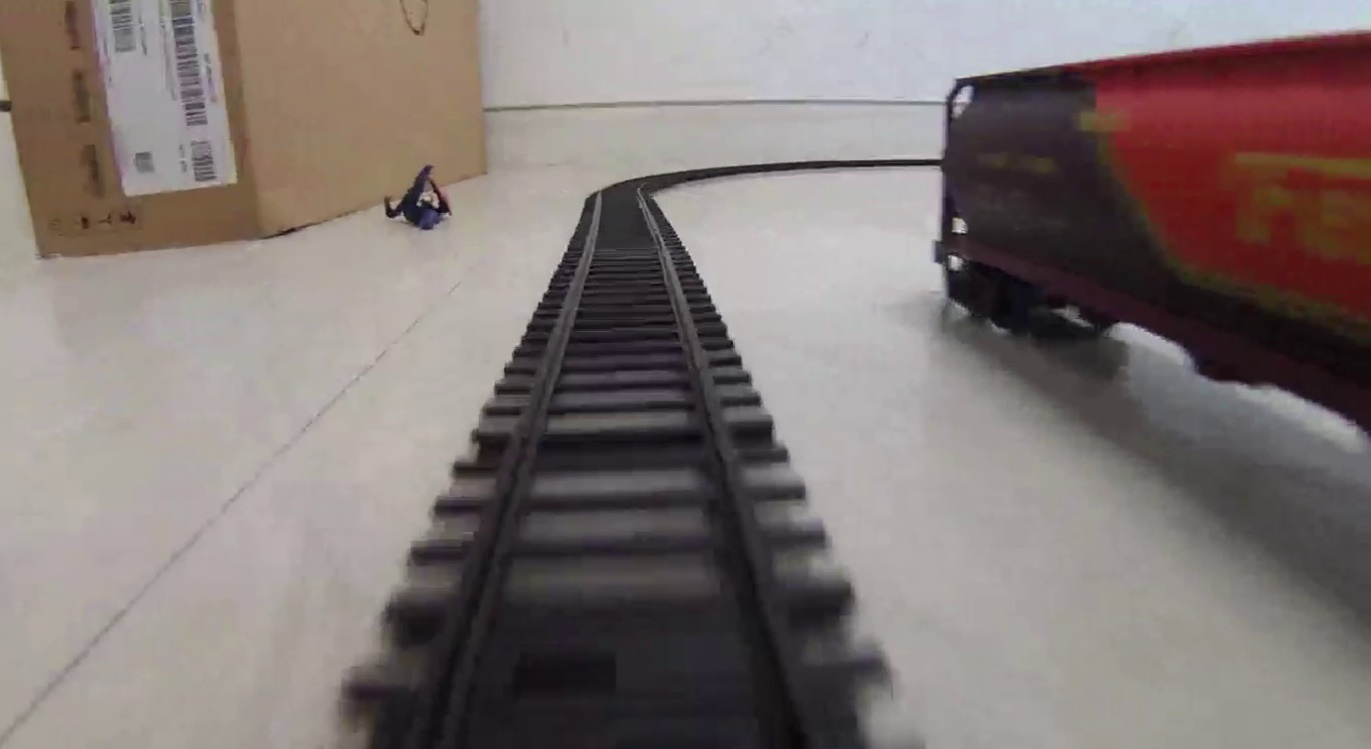people: (388, 166, 455, 233)
